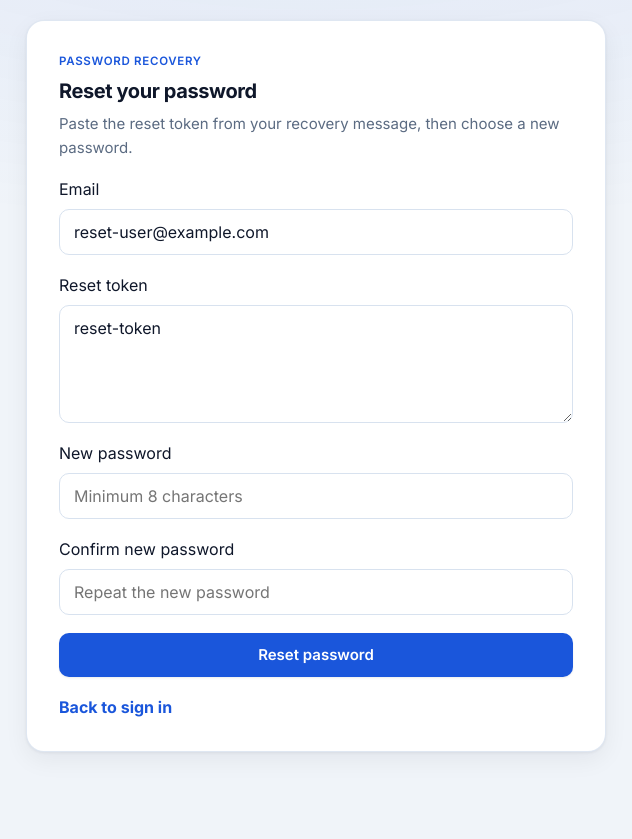
Test: ResetPasswordPageComponent › prefills reset link values and submits a matching new password
Expected: the field labelled "Email" holds "reset-user@example.com", top-left (59, 209), bottom-right (573, 255)
In the password field named "newPassword": (316, 496) top-left (59, 473), bottom-right (573, 519), type "NewPassword123!"
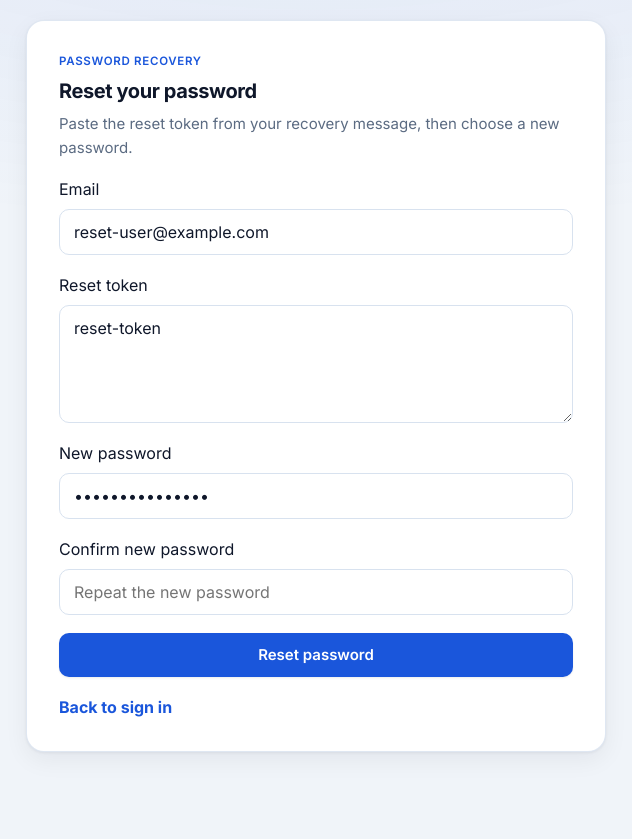
In the password field named "confirmPassword": (316, 592) top-left (59, 569), bottom-right (573, 615), type "NewPassword123!"
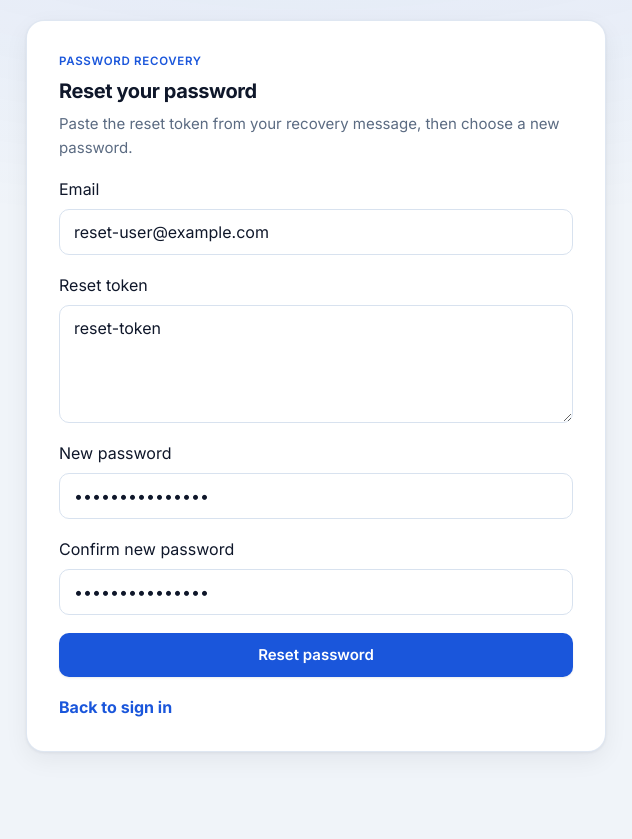
Submit the form
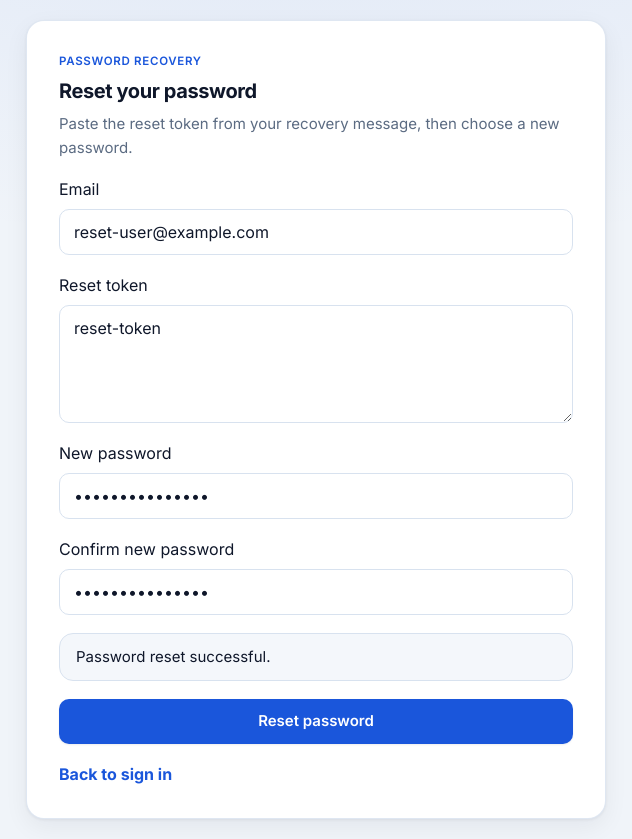
Result: the text "Password reset successful" is shown at top-left (76, 647), bottom-right (270, 666)
